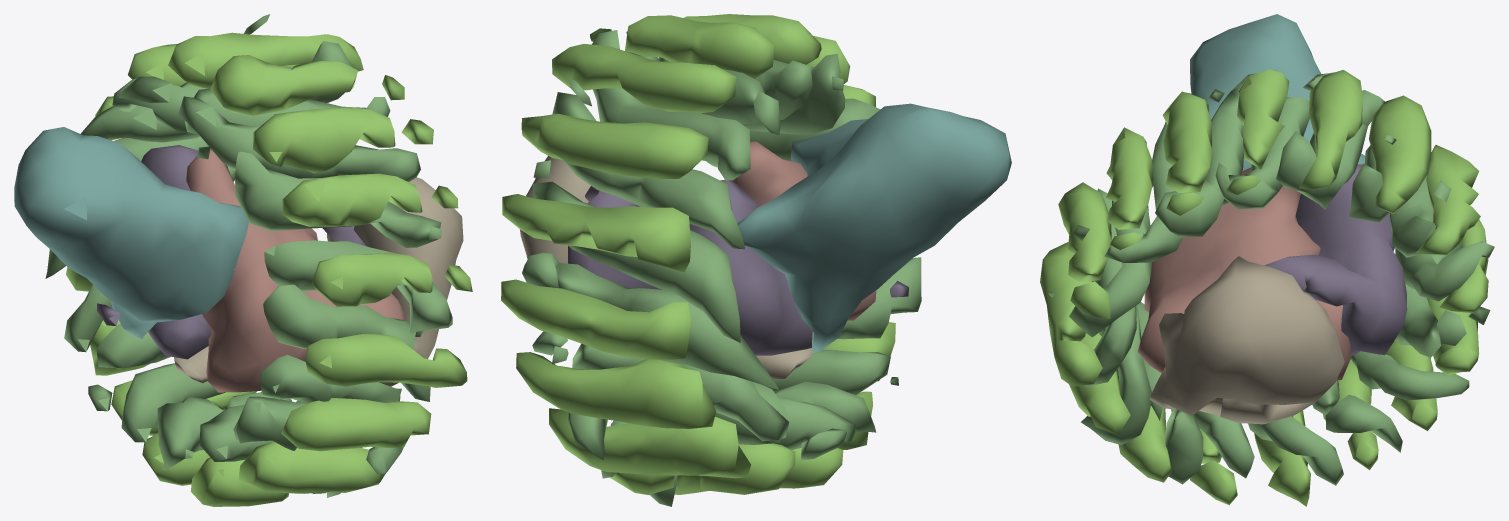
The model's file is xxxx.dae.
The picture shows the model from 3 angles, left to right: view 1: azimuth 30°, elevation 25°; view 2: azimuth 150°, elevation 25°; view 3: azimuth 270°, elevation 25°; orthographic projection. The views are drawn at different scales.
Parts seen in each view (by area): view 1: wmo_wmo_surfaces_1_C, wmo_wmo_surfaces_1_L, wmo_wmo_surfaces_1_2, wmo_wmo_surfaces_1_8, wmo_wmo_surfaces_1_Z, wmo_wmo_surfaces_1_0, wmo_wmo_surfaces_1_4, wmo_wmo_surfaces_1_7, wmo_wmo_surfaces_1_B, wmo_wmo_surfaces_1_3, wmo_wmo_surfaces_1_1, wmo_wmo_surfaces_1_H (+20 smaller); view 2: wmo_wmo_surfaces_1_C, wmo_wmo_surfaces_1_P, wmo_wmo_surfaces_1_M, wmo_wmo_surfaces_1_R, wmo_wmo_surfaces_1_T, wmo_wmo_surfaces_1_V, wmo_wmo_surfaces_1_N, wmo_wmo_surfaces_1_X, wmo_wmo_surfaces_1_Q, wmo_wmo_surfaces_1_S, wmo_wmo_surfaces_1_U, wmo_wmo_surfaces_1_Z (+18 smaller); view 3: wmo_wmo_surfaces_1_H, wmo_wmo_surfaces_1_M, wmo_wmo_surfaces_1_L, wmo_wmo_surfaces_1_C, wmo_wmo_surfaces_1_V, wmo_wmo_surfaces_1_6, wmo_wmo_surfaces_1_2, wmo_wmo_surfaces_1_X, wmo_wmo_surfaces_1_1, wmo_wmo_surfaces_1_8, wmo_wmo_surfaces_1_T, wmo_wmo_surfaces_1_4 (+24 smaller).
Part boxes in pixels (<box>): wmo_wmo_surfaces_1_C: <box>14,127,248,338</box>; wmo_wmo_surfaces_1_L: <box>186,149,405,392</box>; wmo_wmo_surfaces_1_2: <box>253,107,433,173</box>; wmo_wmo_surfaces_1_8: <box>305,333,467,387</box>; wmo_wmo_surfaces_1_Z: <box>210,55,404,115</box>; wmo_wmo_surfaces_1_0: <box>281,398,431,451</box>; wmo_wmo_surfaces_1_4: <box>282,173,458,226</box>; wmo_wmo_surfaces_1_7: <box>233,269,430,401</box>; wmo_wmo_surfaces_1_B: <box>238,441,386,493</box>; wmo_wmo_surfaces_1_3: <box>197,146,441,247</box>; wmo_wmo_surfaces_1_1: <box>178,96,420,181</box>; wmo_wmo_surfaces_1_H: <box>174,177,463,386</box>; wmo_wmo_surfaces_1_C: <box>737,103,1011,353</box>; wmo_wmo_surfaces_1_P: <box>516,352,716,428</box>; wmo_wmo_surfaces_1_M: <box>568,179,908,355</box>; wmo_wmo_surfaces_1_R: <box>501,279,690,359</box>; wmo_wmo_surfaces_1_T: <box>502,194,690,272</box>; wmo_wmo_surfaces_1_V: <box>521,113,708,179</box>; wmo_wmo_surfaces_1_N: <box>549,408,750,478</box>; wmo_wmo_surfaces_1_X: <box>552,44,736,113</box>; wmo_wmo_surfaces_1_Q: <box>522,252,778,389</box>; wmo_wmo_surfaces_1_S: <box>532,160,740,342</box>; wmo_wmo_surfaces_1_U: <box>552,78,744,249</box>; wmo_wmo_surfaces_1_Z: <box>590,15,774,78</box>; wmo_wmo_surfaces_1_H: <box>1150,256,1344,424</box>; wmo_wmo_surfaces_1_M: <box>1264,164,1407,355</box>; wmo_wmo_surfaces_1_L: <box>1137,167,1350,400</box>; wmo_wmo_surfaces_1_C: <box>1190,14,1365,170</box>; wmo_wmo_surfaces_1_V: <box>1369,95,1431,213</box>; wmo_wmo_surfaces_1_6: <box>1058,182,1111,318</box>; wmo_wmo_surfaces_1_2: <box>1162,91,1212,215</box>; wmo_wmo_surfaces_1_X: <box>1299,70,1362,189</box>; wmo_wmo_surfaces_1_1: <box>1155,73,1256,237</box>; wmo_wmo_surfaces_1_8: <box>1040,242,1102,386</box>; wmo_wmo_surfaces_1_T: <box>1415,145,1480,255</box>; wmo_wmo_surfaces_1_4: <box>1106,127,1153,249</box>.
Size of the model in its own units: 120 by 115 by 117.
